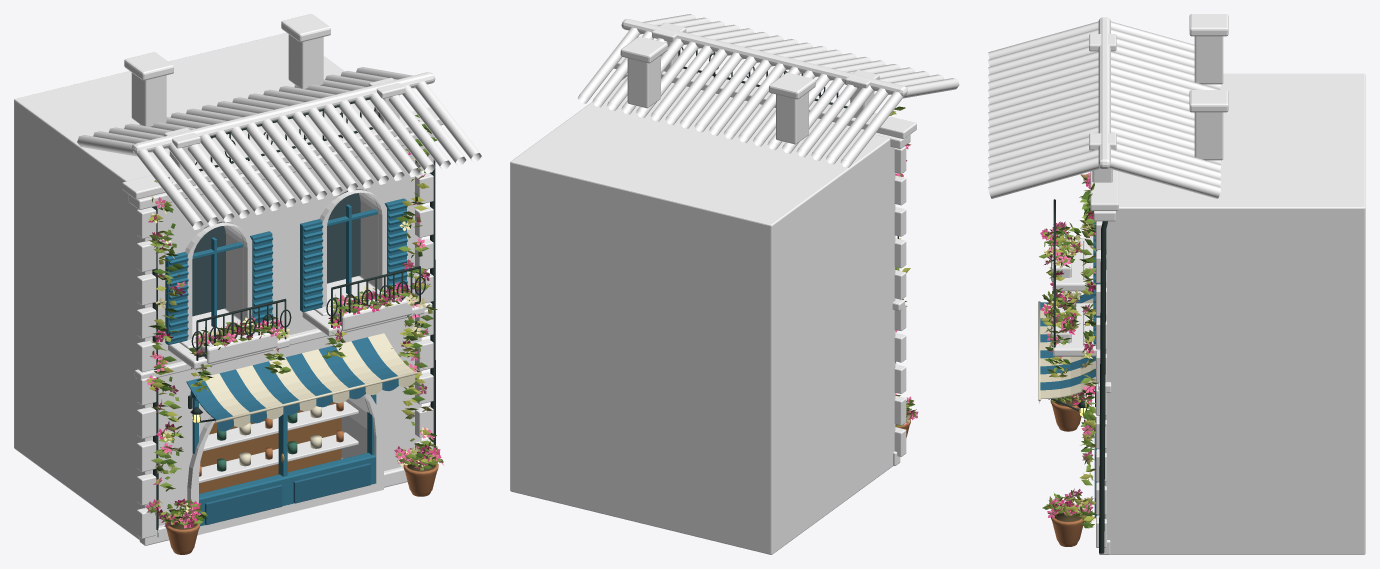
Rendered from MansionCream.glb.
3 renders of one model, left to right at view 1: azimuth 30°, elevation 25°; view 2: azimuth 150°, elevation 25°; view 3: azimuth 270°, elevation 25°, orthographic. The views are drawn at different scales.
Visible parts, largest first — view 1: RK_MansionCream_RK_CreamPlaster, RK_MansionCream_RK_Tile, RK_MansionCream_RK_Stone, RK_MansionCream_RK_Blue, RK_MansionCream_RK_CanvasBlue, RK_MansionCream_RK_CanvasCream, RK_MansionCream_RK_Iron, RK_MansionCream_RK_Glass, RK_MansionCream_RK_Wood, RK_MansionCream_RK_Interior, RK_MansionCream_RK_LeafGold, RK_MansionCream_RK_Leaf (+5 smaller); view 2: RK_MansionCream_RK_CreamPlaster, RK_MansionCream_RK_Tile, RK_MansionCream_RK_Stone; view 3: RK_MansionCream_RK_CreamPlaster, RK_MansionCream_RK_Tile, RK_MansionCream_RK_Stone, RK_MansionCream_RK_Iron, RK_MansionCream_RK_LeafGold, RK_MansionCream_RK_Leaf, RK_MansionCream_RK_LeafDark, RK_MansionCream_RK_CanvasCream, RK_MansionCream_RK_FlowerRose, RK_MansionCream_RK_CanvasBlue, RK_MansionCream_RK_Terracotta, RK_MansionCream_RK_FlowerPink (+1 smaller).
Part boxes in pixels (x1,y1,x2,y2): RK_MansionCream_RK_CreamPlaster: (14,32,421,539); RK_MansionCream_RK_Tile: (77,14,481,230); RK_MansionCream_RK_Stone: (122,77,443,545); RK_MansionCream_RK_Blue: (165,198,407,526); RK_MansionCream_RK_CanvasBlue: (186,337,398,524); RK_MansionCream_RK_CanvasCream: (205,333,417,466); RK_MansionCream_RK_Iron: (152,97,435,536); RK_MansionCream_RK_Glass: (192,189,360,316); RK_MansionCream_RK_Wood: (199,401,358,483); RK_MansionCream_RK_Interior: (199,402,341,493); RK_MansionCream_RK_LeafGold: (146,120,438,525); RK_MansionCream_RK_Leaf: (147,121,441,525); RK_MansionCream_RK_CreamPlaster: (510,55,895,554); RK_MansionCream_RK_Tile: (577,14,959,167); RK_MansionCream_RK_Stone: (613,22,916,465); RK_MansionCream_RK_CreamPlaster: (1104,36,1365,554); RK_MansionCream_RK_Tile: (988,14,1228,198); RK_MansionCream_RK_Stone: (1051,34,1118,554); RK_MansionCream_RK_Iron: (1050,199,1107,553); RK_MansionCream_RK_LeafGold: (1040,174,1095,528); RK_MansionCream_RK_Leaf: (1039,178,1097,527); RK_MansionCream_RK_LeafDark: (1042,182,1097,527); RK_MansionCream_RK_CanvasCream: (1038,298,1098,403); RK_MansionCream_RK_FlowerRose: (1040,172,1097,518); RK_MansionCream_RK_CanvasBlue: (1040,291,1096,517); RK_MansionCream_RK_Terracotta: (1050,395,1085,546); RK_MansionCream_RK_FlowerPink: (1040,179,1095,513).
Size of the model in its own units: 6.8 by 9.04 by 7.23.
